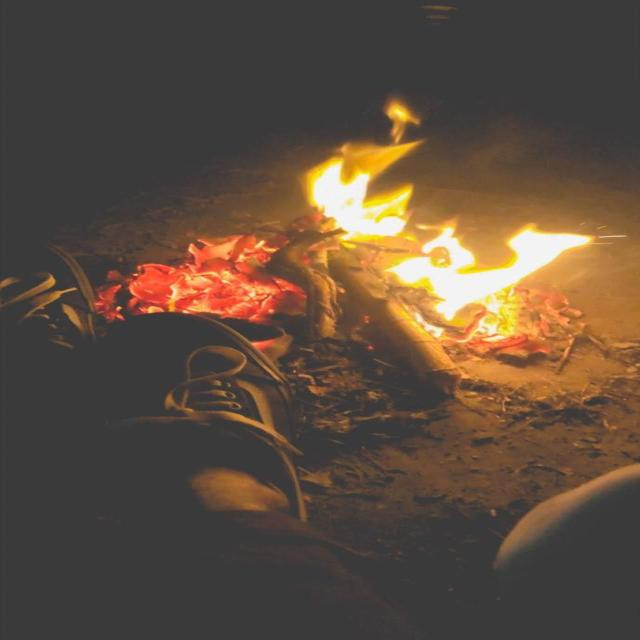fire: (304, 96, 594, 344), (102, 236, 307, 324)
